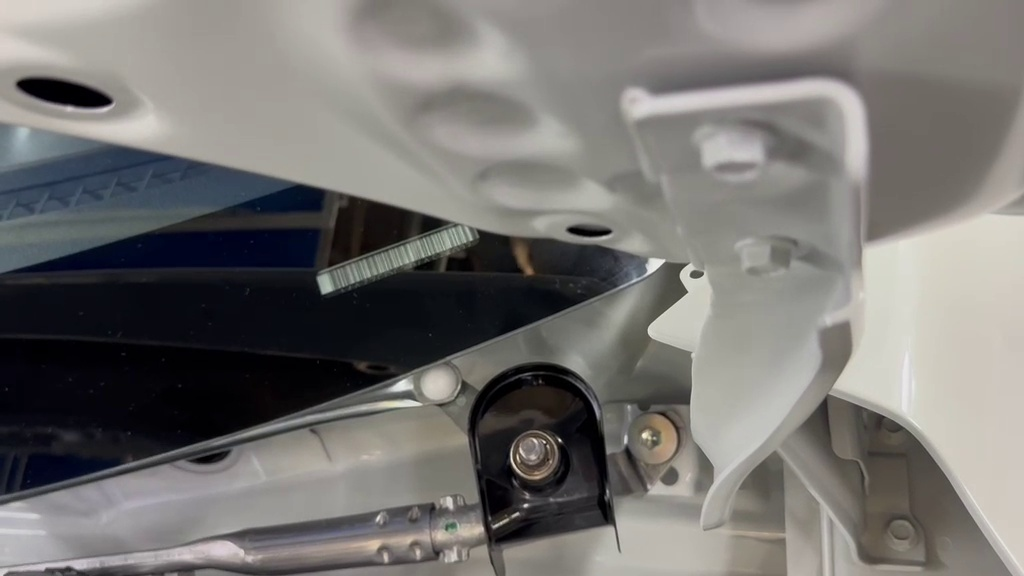barcode: (442, 362, 662, 576)
hinge: (294, 198, 499, 320)
